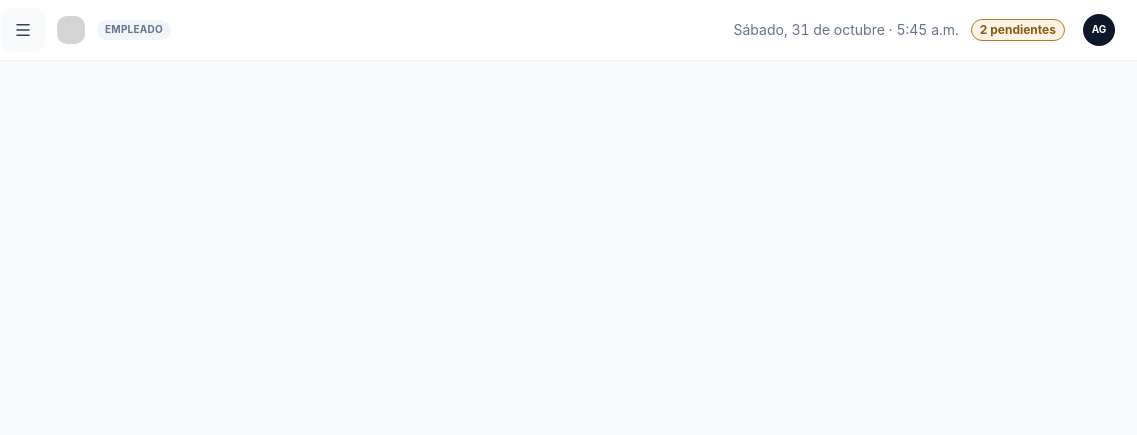
it: DashboardLayout — navegación agrupada (I5) › la empleada no ve secciones ni Recepción, y sí Seguridad en su menú de usuario
The width and height of the screenshot is (1137, 435).
Step 1. Click the button with aria-label "Menú de usuario" → [1099, 30], box [1077, 8, 1121, 52]
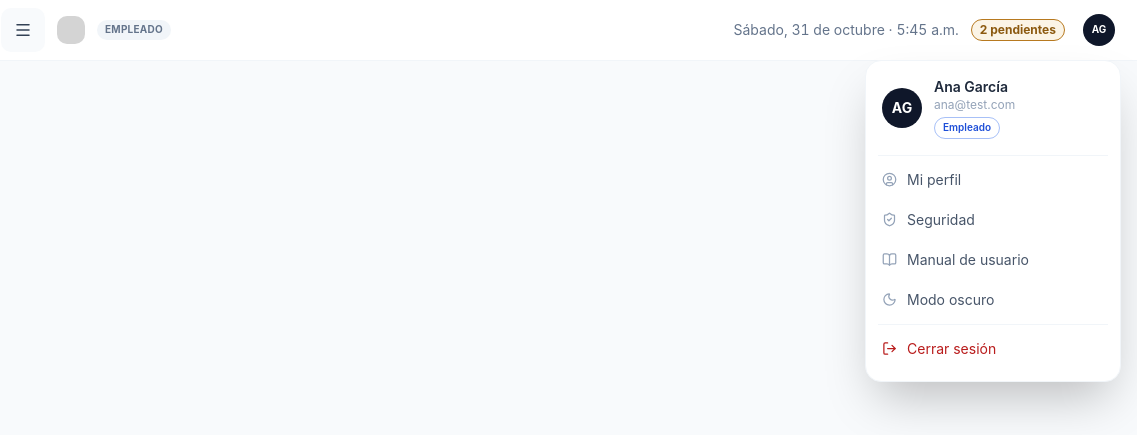
Expected: the button "Seguridad" is shown, [866, 200, 1120, 240]
